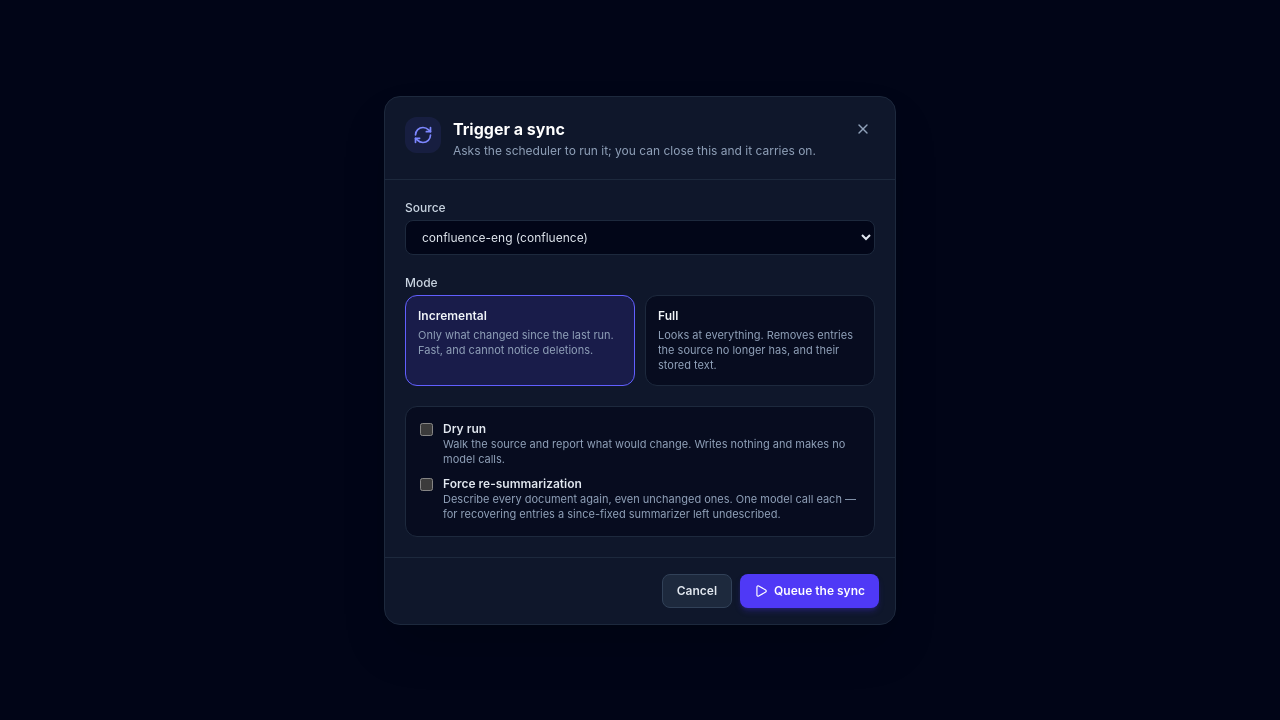
Test: TriggerSyncModal › shows what the server refused
The image size is (1280, 720).
Click the button "Queue the sync": (810, 590) x1=740 y1=574 x2=879 y2=608
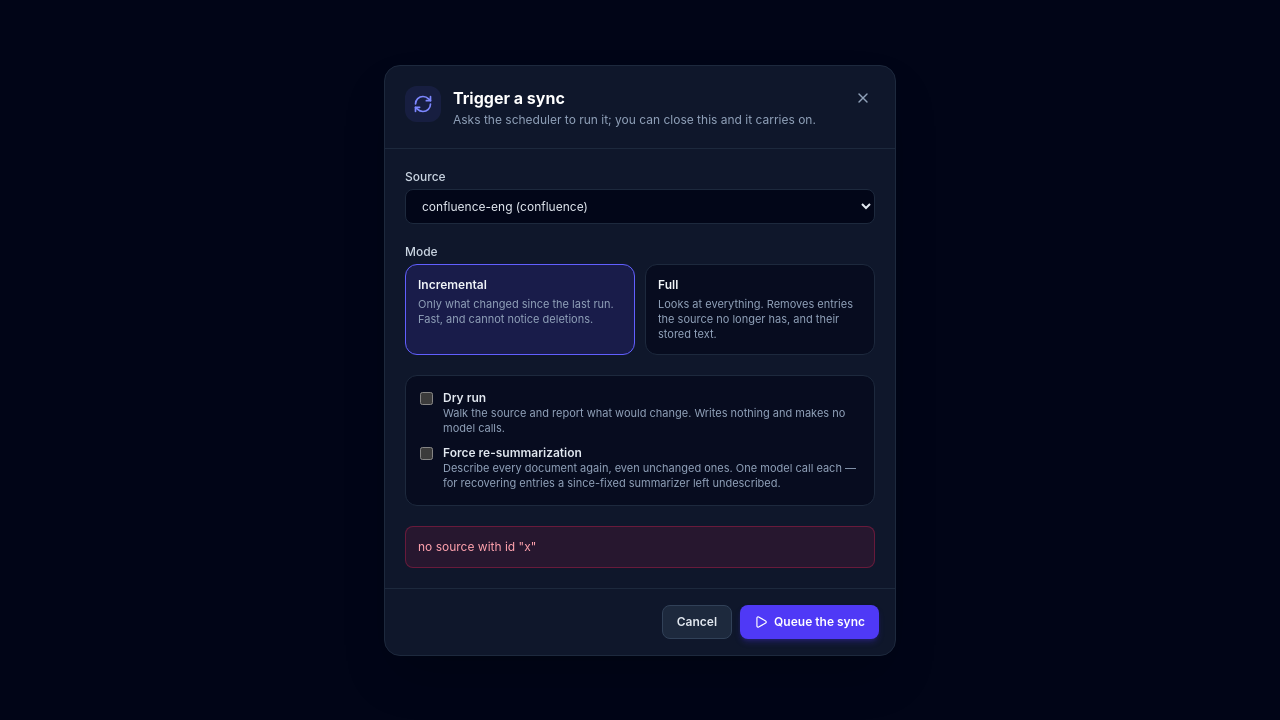
Now the message reads "no source with id \"x\"", box x1=418 y1=538 x2=536 y2=554
